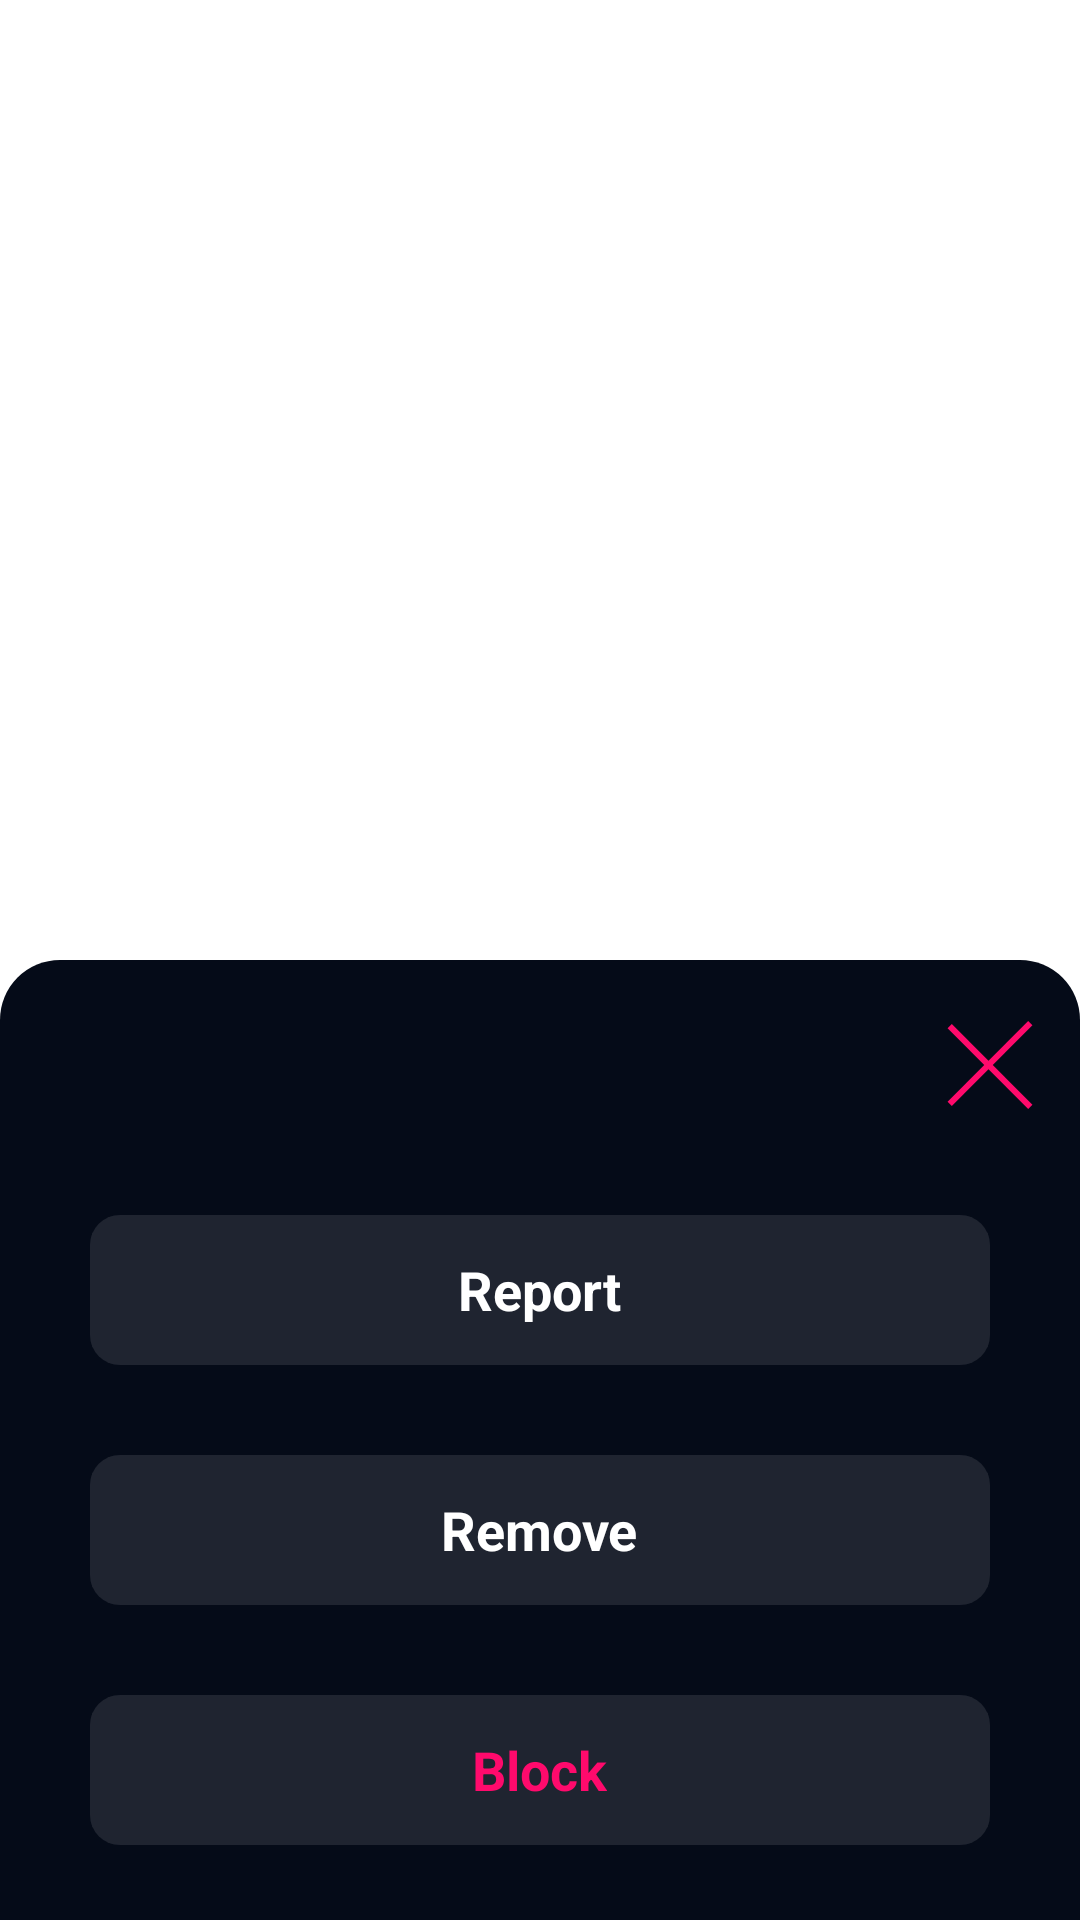

Named icons in this screenshot (1080px×1920px) and their bounding boxes, (left=x1, top=y1, right=x2, bottom=y2):
cross: (left=947, top=1021, right=1033, bottom=1109)
